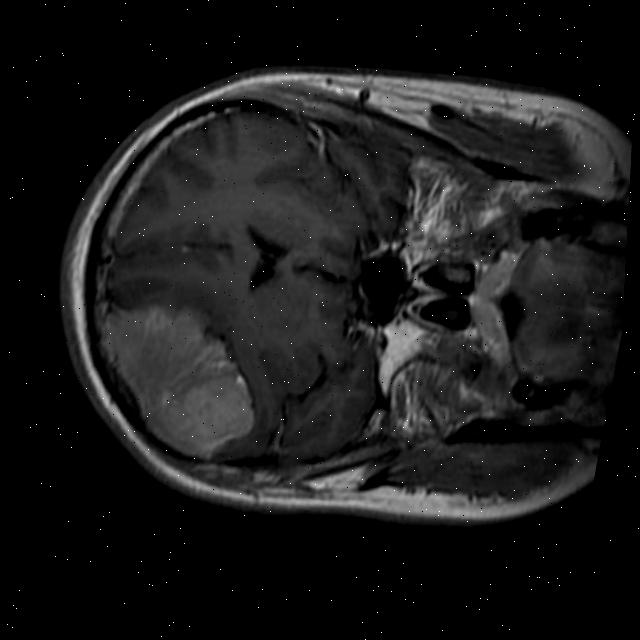Meningioma: (77, 290, 276, 466)
